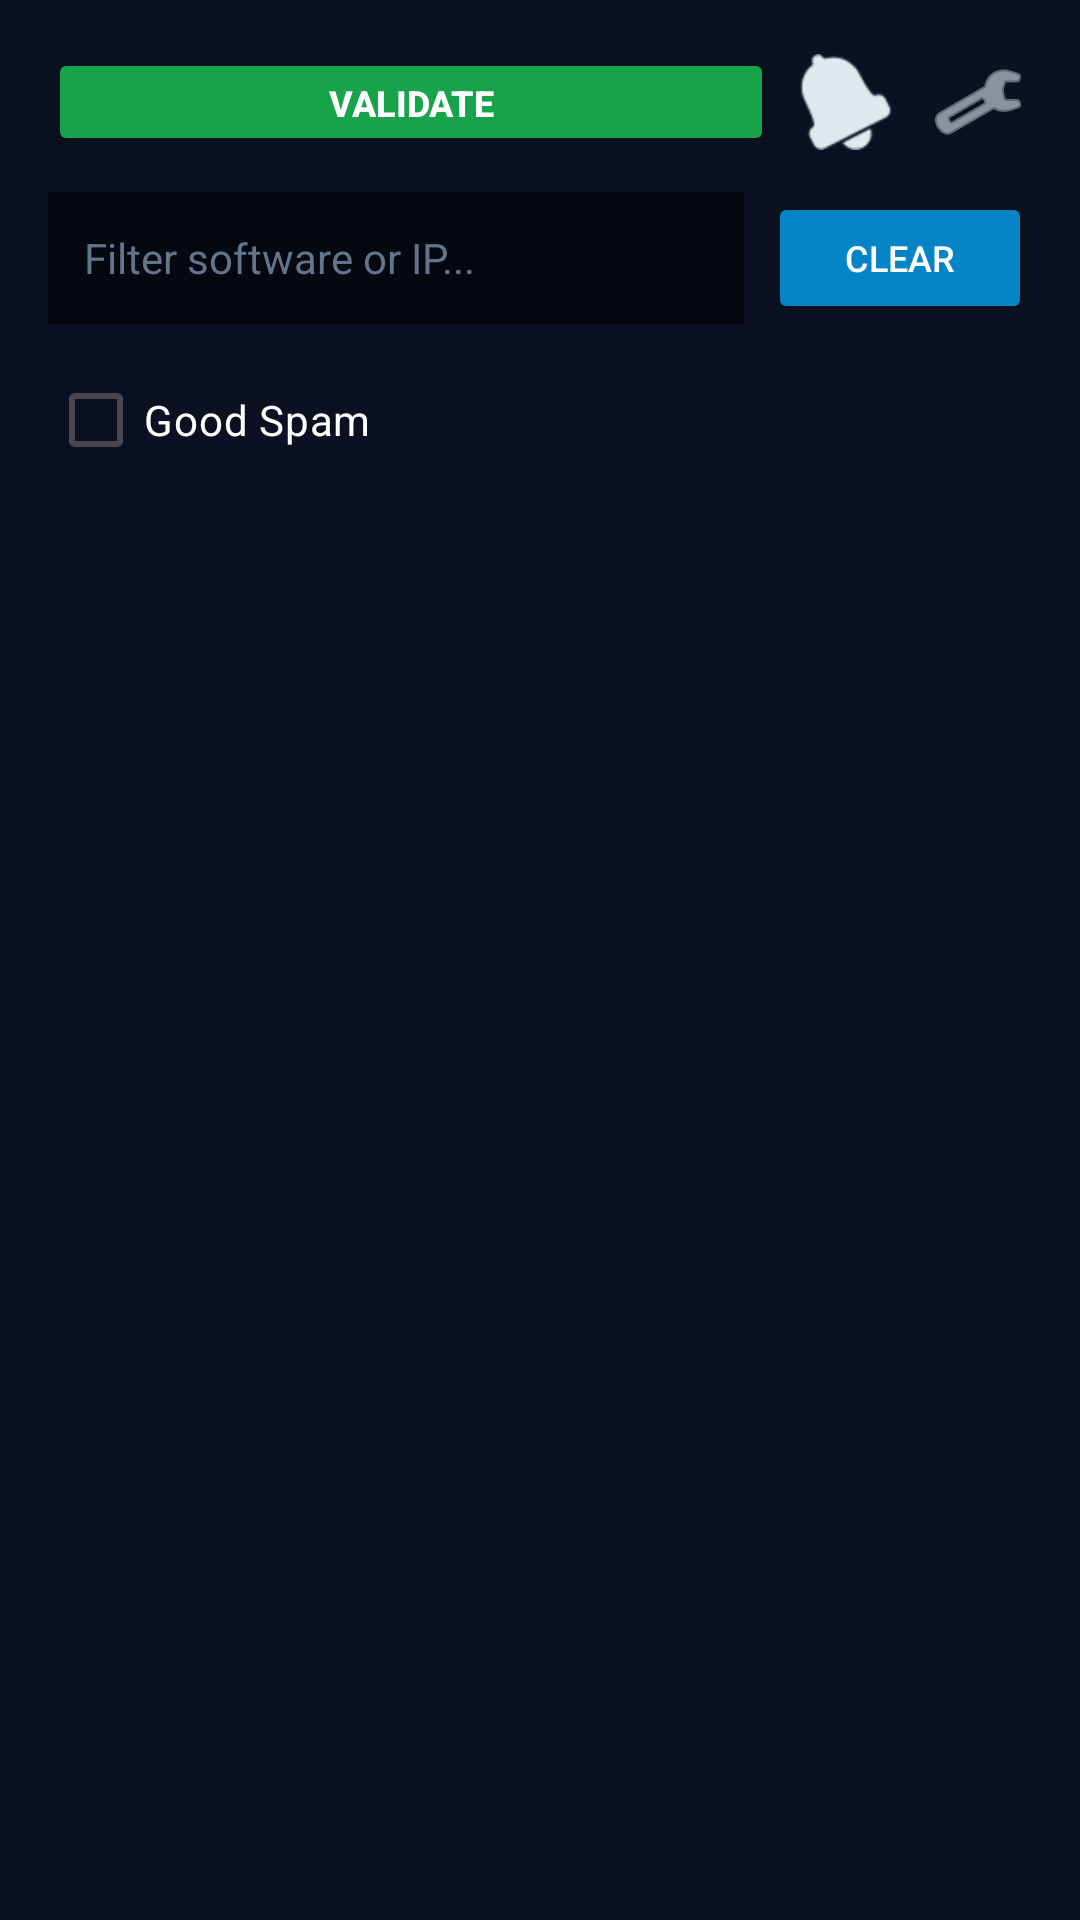

Named icons in this screenshot (1080×1920) and their centers, point (x, y):
Settings: point (978, 102)
